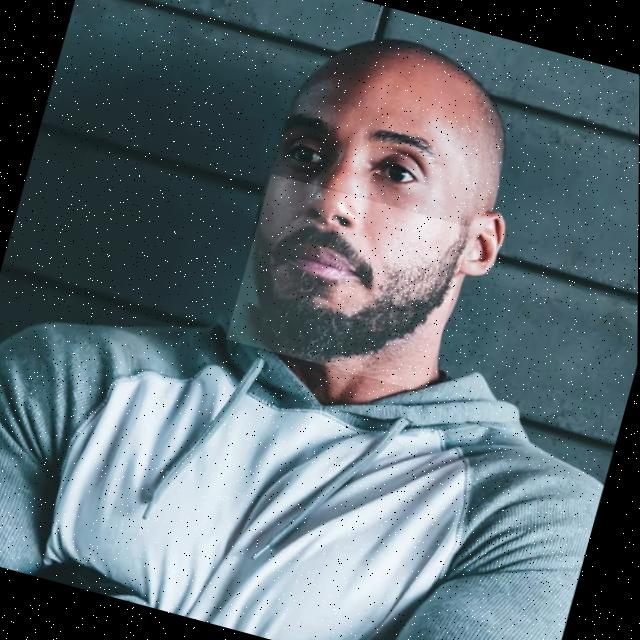beard: (254, 212, 469, 363)
